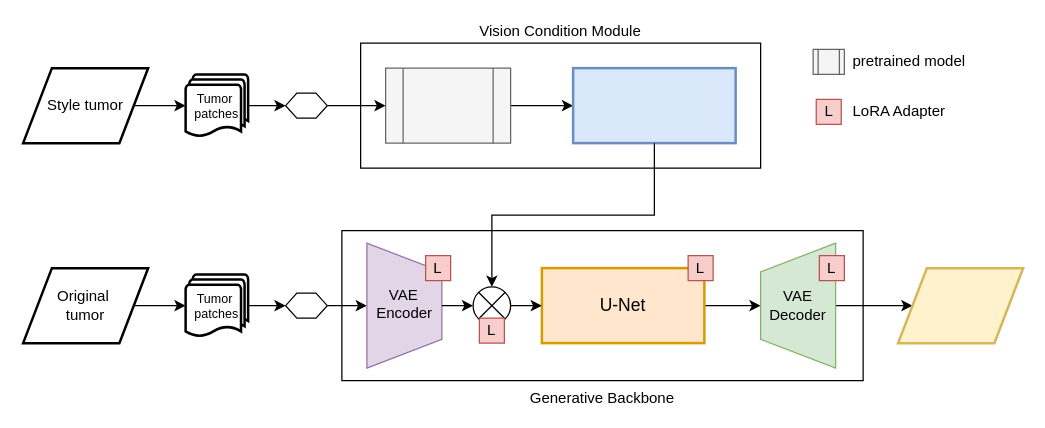
The diagram is 1045 pixels wide and 428 high, and some of its shapes have lost their labels. The centre of each missing label's shape, as x and y in pixels:
"CLIP" goes at (447,105).
"Stained tumor" goes at (960,305).
"Vision Language Projector" goes at (653,105).
